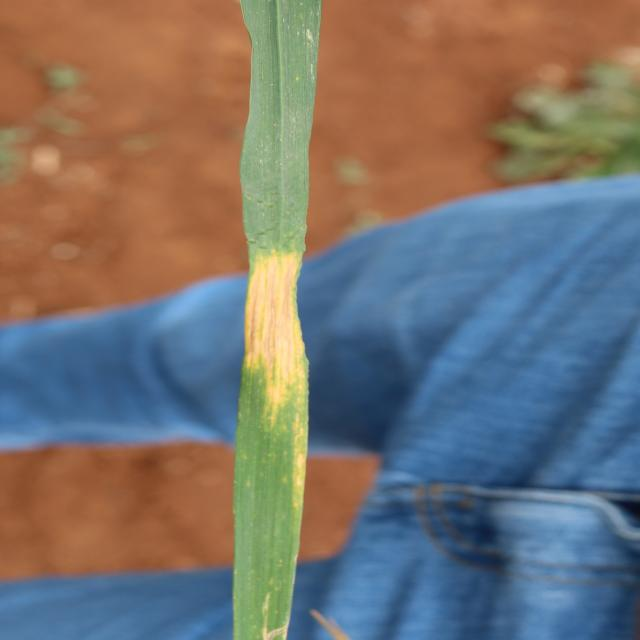Septoria: (230, 1, 323, 638)
